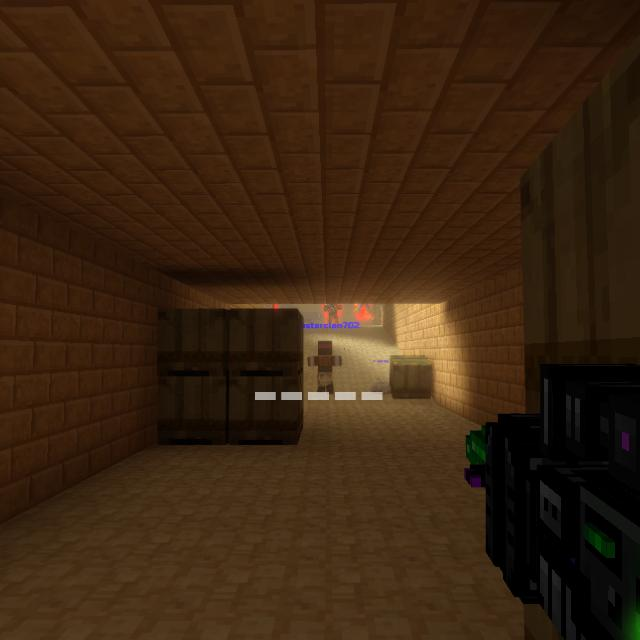Enemy: (324, 304, 342, 324), (355, 304, 371, 313)
